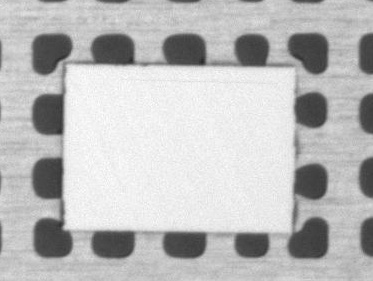DIE_CRACK: (159, 60, 368, 63)
